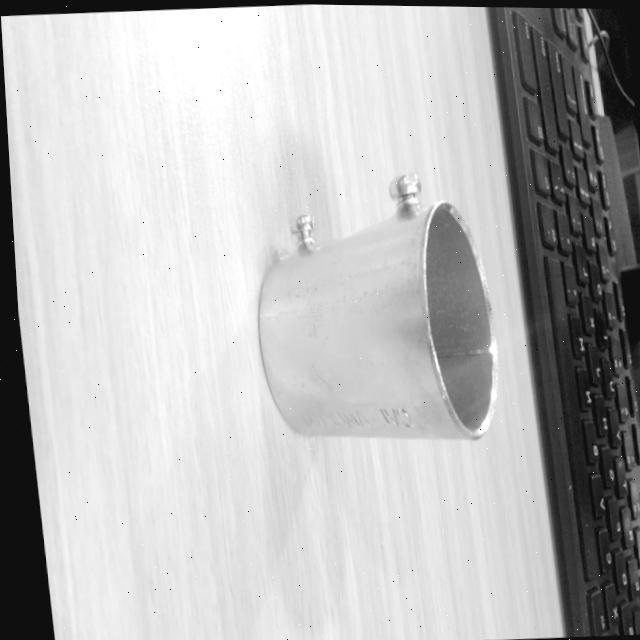Co_Nho: (256, 168, 499, 443)
